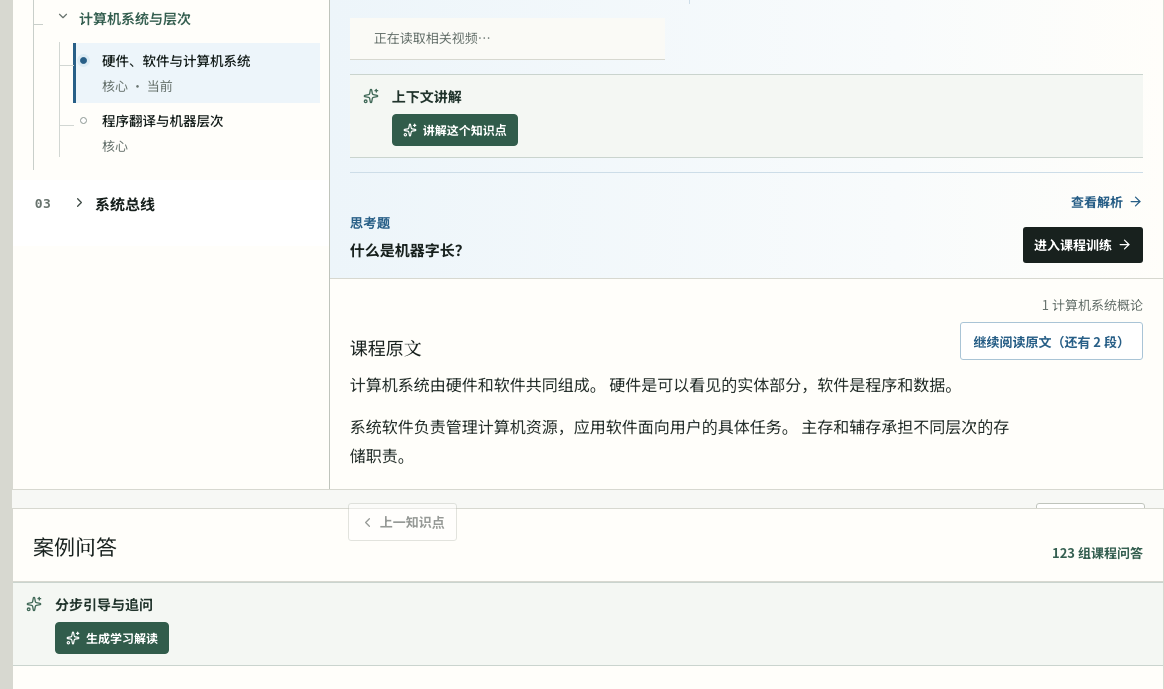
Test: ComputerOrganizationPage › turns long source text into a layered beginner reading flow without inventing an AI summary
The image size is (1164, 689).
(page scrolled)
Check: the text "思考题" is shown, box [350,216,390,231]
Check: the text "理解这些概念之间的关系后" is not shown
Click the button "继续阅读原文（还有 2 段）".
click(1052, 341)  # box [960,322,1143,360]
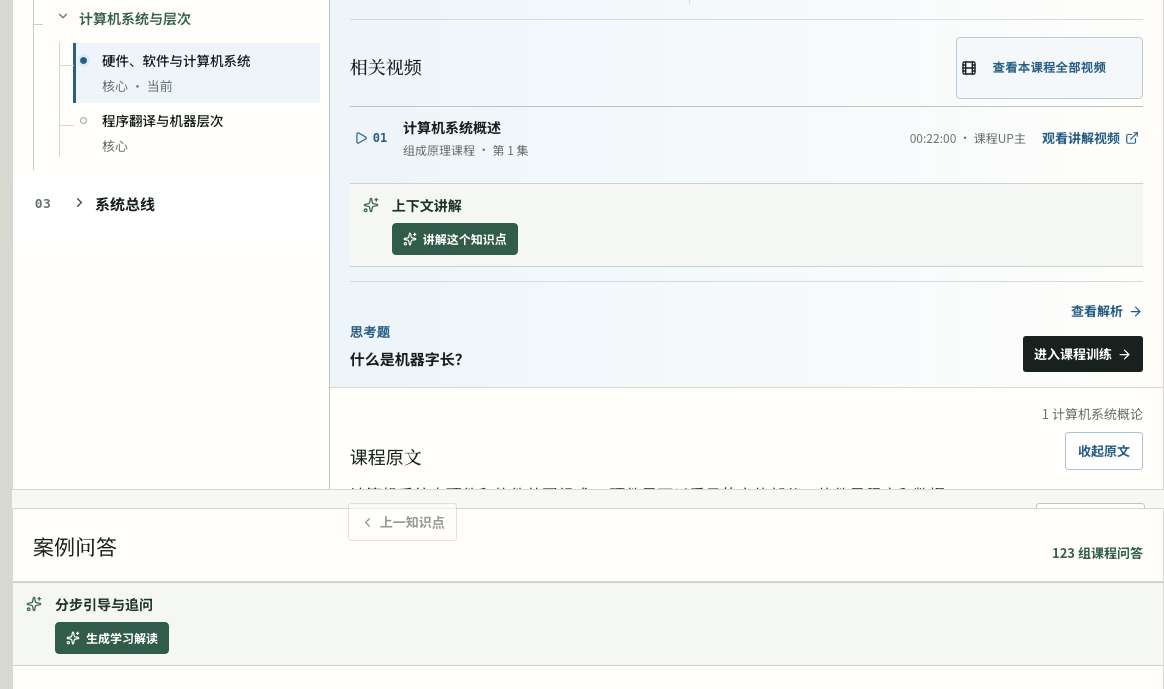
Check: the button "收起原文" is shown, box [1065,432,1143,470]
